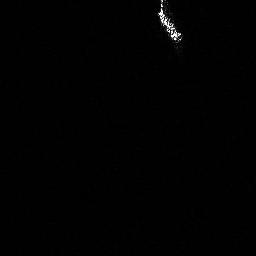ship: (154, 1, 185, 45)
